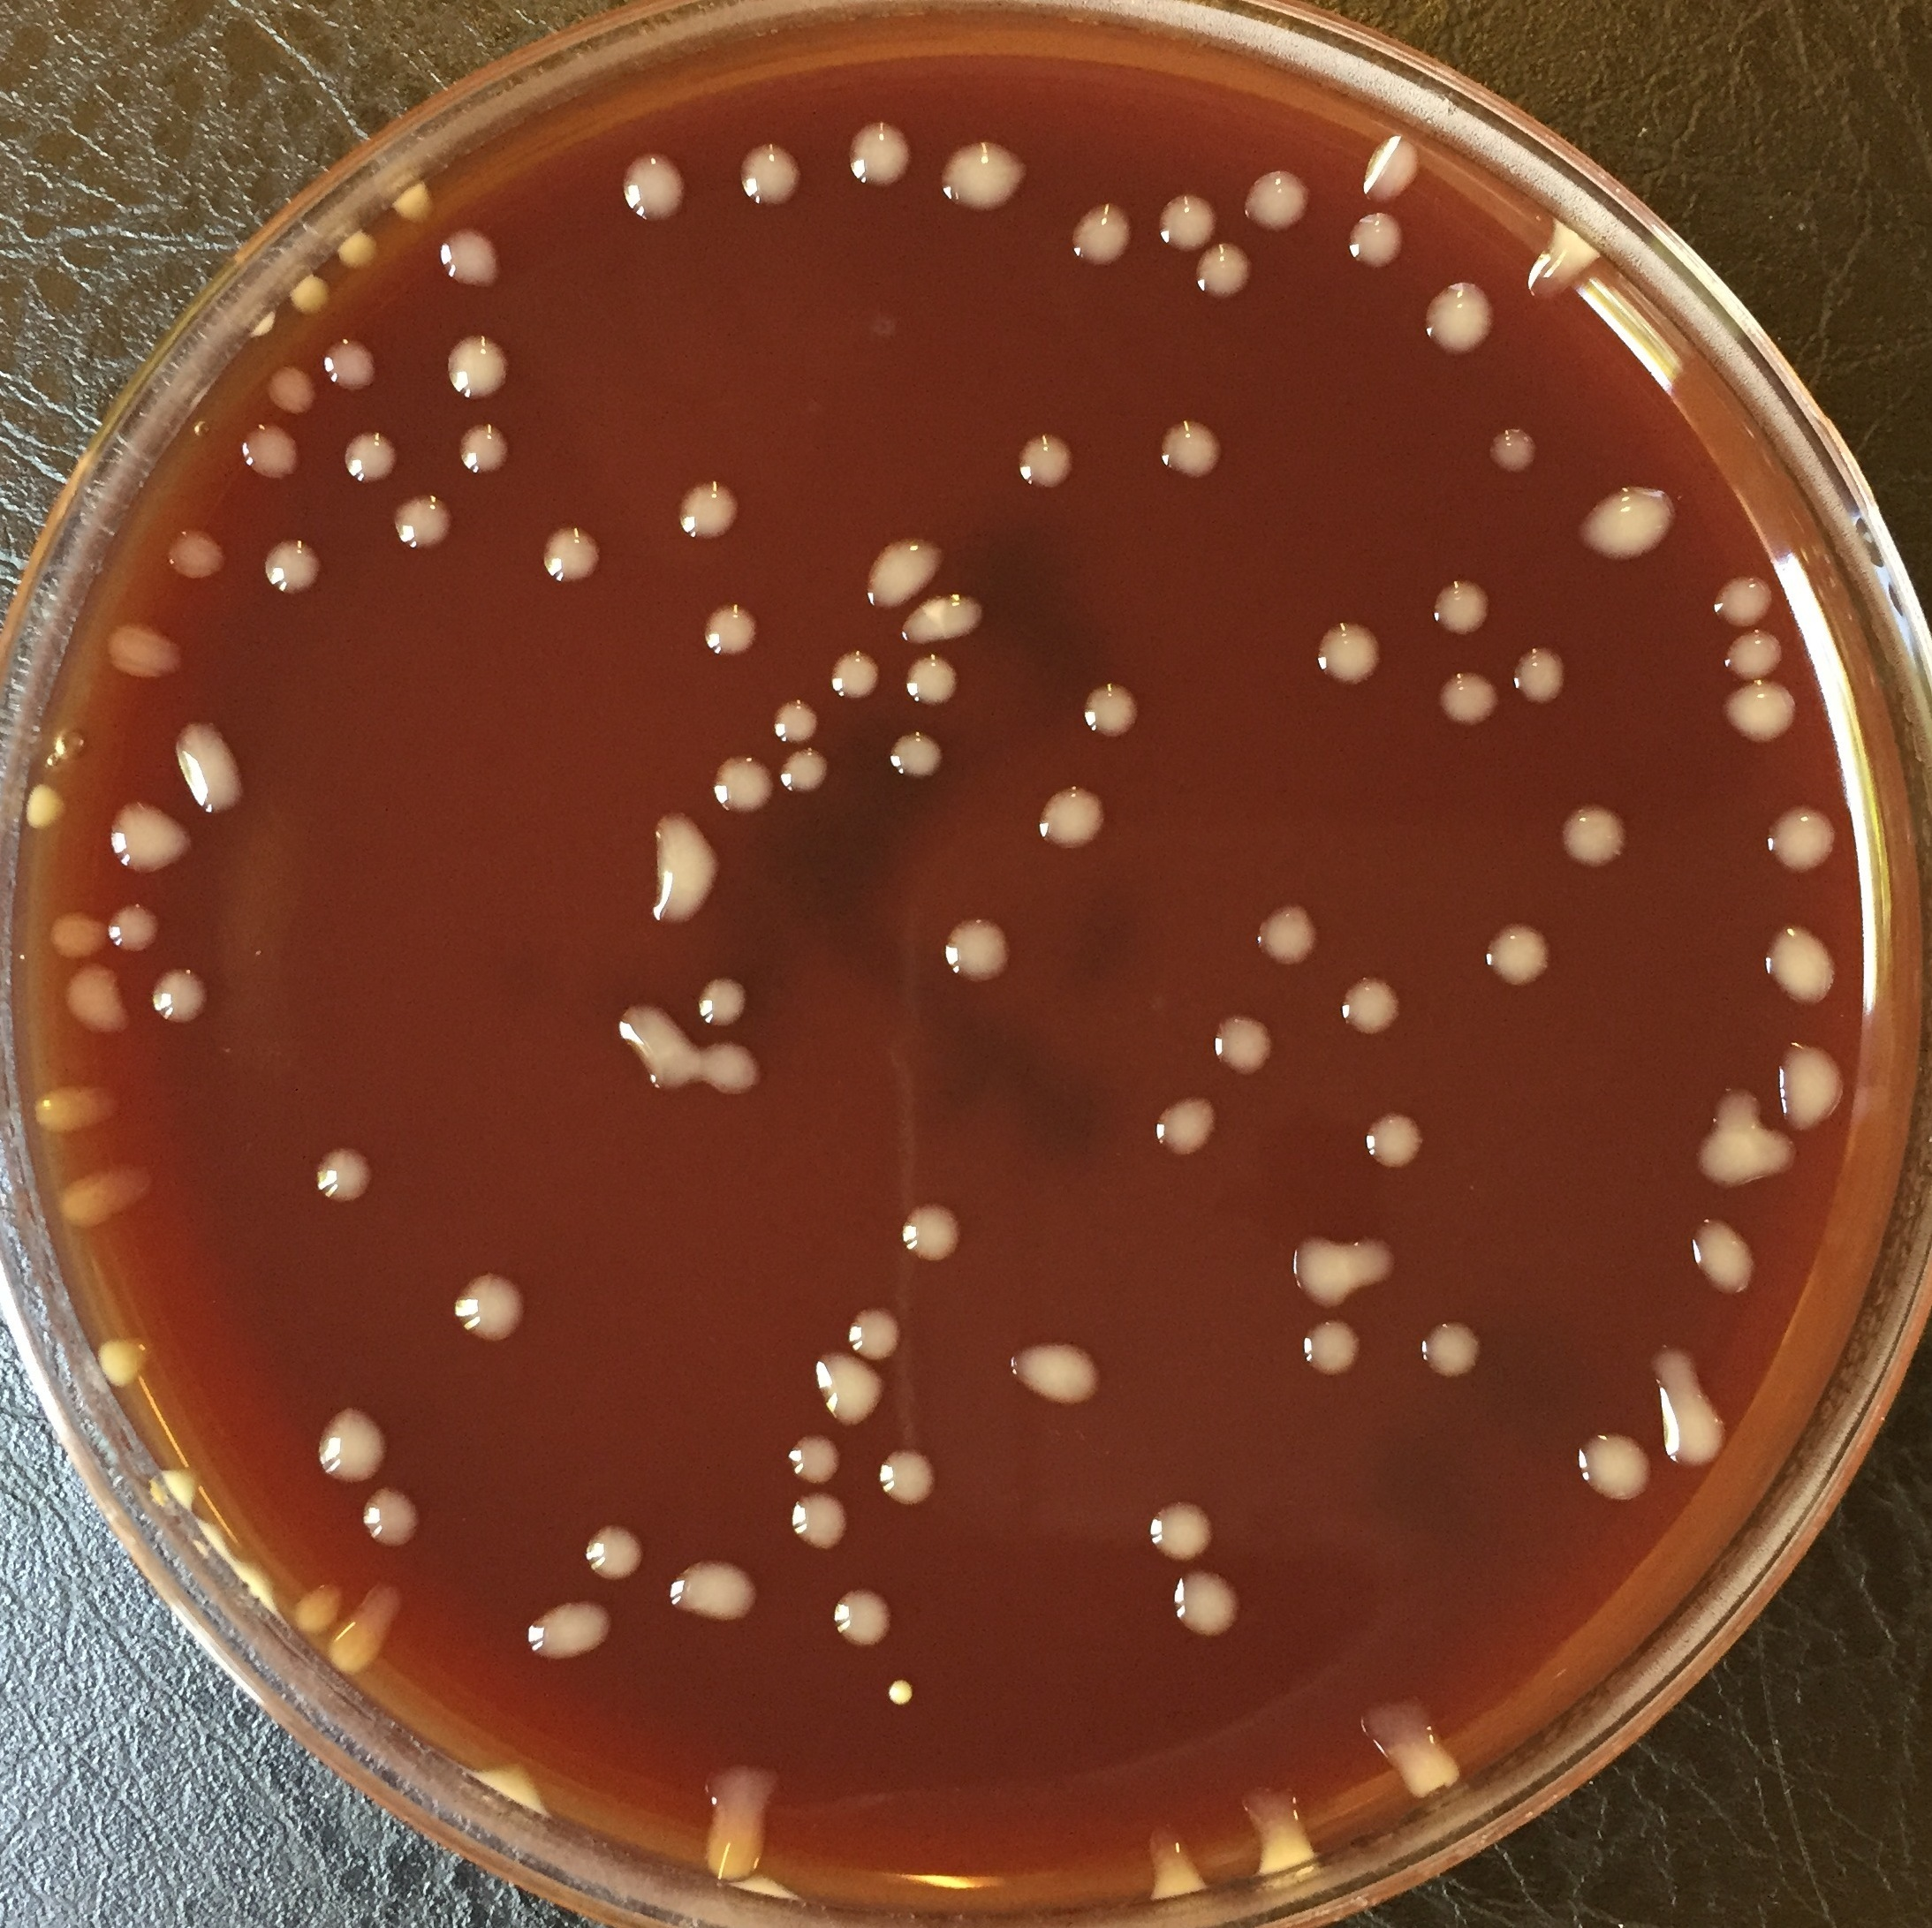sp19: (1355, 1688, 1471, 1797), (687, 1755, 777, 1893), (1639, 1338, 1732, 1471), (447, 1732, 560, 1834), (1690, 1084, 1800, 1188), (638, 805, 731, 927), (1572, 473, 1687, 569), (166, 710, 253, 826), (1282, 1224, 1393, 1314), (1234, 1781, 1326, 1880), (611, 994, 699, 1095), (1513, 219, 1607, 313), (1003, 1329, 1104, 1414), (1770, 1031, 1851, 1135), (857, 530, 955, 614), (44, 1158, 171, 1224), (523, 1585, 623, 1667), (660, 1552, 765, 1630), (102, 798, 200, 881), (1761, 918, 1844, 1013), (297, 1400, 394, 1481), (934, 138, 1033, 217), (328, 1587, 413, 1677), (1164, 1559, 1254, 1642), (449, 1266, 533, 1351), (802, 1351, 887, 1435), (1683, 1211, 1761, 1303), (613, 150, 698, 233), (1755, 798, 1844, 877), (1028, 784, 1121, 856), (1347, 127, 1429, 210), (1411, 277, 1498, 355), (1554, 793, 1634, 876), (1570, 1427, 1655, 1504), (728, 134, 812, 212), (934, 918, 1023, 992), (894, 593, 991, 659), (434, 334, 519, 408), (99, 620, 191, 687), (1058, 198, 1150, 265), (1238, 164, 1321, 237), (1718, 678, 1805, 747), (434, 224, 514, 298), (1143, 1492, 1220, 1566), (1312, 620, 1390, 694), (1137, 1817, 1206, 1900), (1148, 1091, 1226, 1164), (58, 959, 129, 1038), (1203, 1010, 1284, 1079), (1249, 899, 1323, 971), (25, 1082, 125, 1135), (846, 120, 920, 191), (1355, 1109, 1432, 1176), (1150, 191, 1226, 258), (1151, 415, 1231, 478), (1077, 680, 1150, 749), (1008, 427, 1081, 496), (841, 1299, 915, 1367), (1294, 1317, 1369, 1384), (145, 964, 221, 1029), (1429, 664, 1505, 729), (1485, 916, 1552, 989), (826, 1585, 901, 1651), (1337, 969, 1406, 1038), (675, 477, 745, 544), (309, 1142, 380, 1209), (355, 1485, 427, 1550), (1423, 577, 1496, 643), (1501, 644, 1574, 710), (1344, 205, 1409, 277), (387, 493, 457, 558), (1187, 240, 1259, 304), (237, 422, 306, 487), (696, 1040, 768, 1102), (44, 906, 120, 964), (318, 337, 387, 401), (874, 1446, 943, 1510), (1708, 570, 1777, 634), (710, 752, 779, 816), (1715, 625, 1787, 685), (897, 1199, 962, 1264), (88, 1331, 155, 1395), (901, 651, 968, 715), (537, 524, 606, 586), (162, 526, 230, 588), (258, 537, 327, 597), (789, 1488, 849, 1557), (881, 729, 952, 787), (339, 427, 404, 489), (1418, 1321, 1483, 1382), (579, 1524, 646, 1584), (698, 602, 766, 659), (452, 418, 516, 478), (779, 1428, 842, 1488), (1485, 420, 1542, 486), (258, 360, 320, 418), (766, 692, 828, 749), (823, 648, 888, 701), (288, 1578, 346, 1637), (18, 784, 85, 833), (106, 897, 166, 952), (774, 745, 834, 800), (694, 973, 754, 1028), (150, 1462, 205, 1511), (385, 180, 441, 228), (334, 228, 390, 272), (284, 275, 334, 320), (233, 304, 275, 343)
